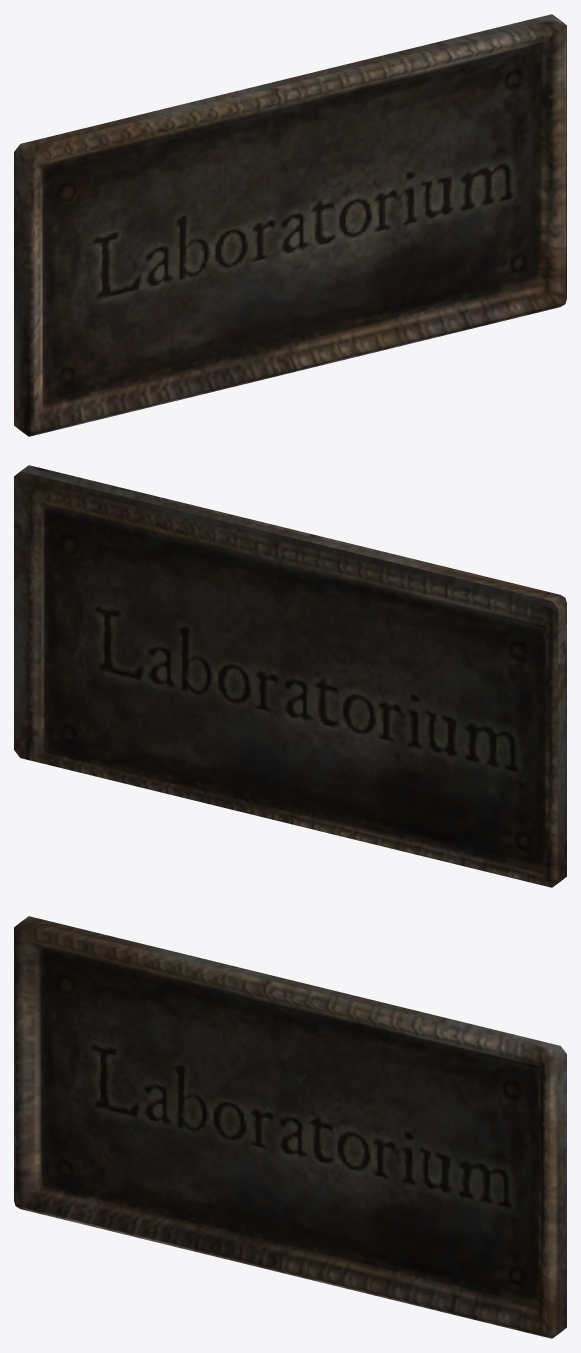
Rendered from sign_laboratory.dae.
3 renders of one model, top to bottom at view 1: azimuth 30°, elevation 25°; view 2: azimuth 150°, elevation 25°; view 3: azimuth 330°, elevation 25°, orthographic.
Visible parts, largest first — view 1: Box02; view 2: Box02; view 3: Box02.
Part boxes in pixels (left/top/right/bottom): Box02: left=14, top=14, right=566, bottom=436; Box02: left=14, top=465, right=566, bottom=887; Box02: left=14, top=916, right=566, bottom=1338.
Size of the model in its own units: 0.6037 by 0.0235 by 0.3038.
